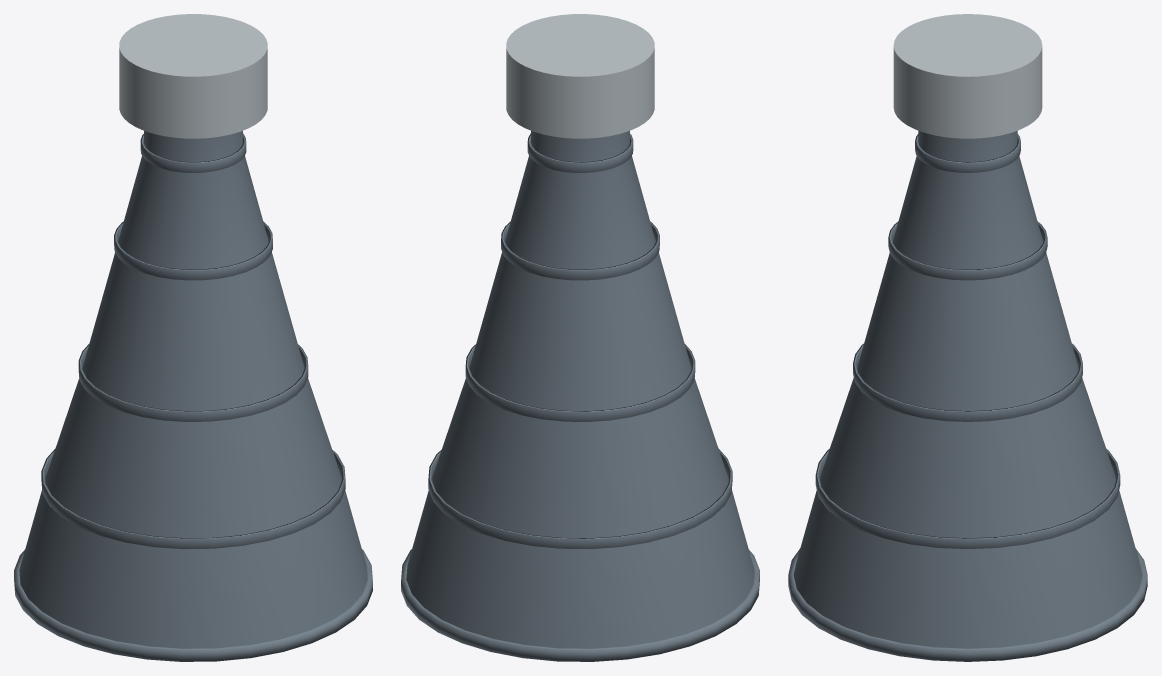
The model's file is sls_core.rs25_02.glb.
The picture shows the model from 3 angles, left to right: view 1: azimuth 30°, elevation 25°; view 2: azimuth 150°, elevation 25°; view 3: azimuth 270°, elevation 25°; orthographic projection.
Visible parts, largest first — view 1: sls_core.rs25_02.bell.mesh_Machined_steel, sls_core.rs25_02.mesh_Satin_aluminum; view 2: sls_core.rs25_02.bell.mesh_Machined_steel, sls_core.rs25_02.mesh_Satin_aluminum; view 3: sls_core.rs25_02.bell.mesh_Machined_steel, sls_core.rs25_02.mesh_Satin_aluminum.
Boxes of the visible parts, x1,y1,x2,y2 form: sls_core.rs25_02.bell.mesh_Machined_steel: [14, 131, 372, 661]; sls_core.rs25_02.mesh_Satin_aluminum: [119, 14, 267, 138]; sls_core.rs25_02.bell.mesh_Machined_steel: [401, 131, 759, 661]; sls_core.rs25_02.mesh_Satin_aluminum: [506, 14, 654, 138]; sls_core.rs25_02.bell.mesh_Machined_steel: [788, 130, 1147, 661]; sls_core.rs25_02.mesh_Satin_aluminum: [893, 14, 1042, 138].
Size of the model in its own units: 2.37 by 3.93 by 2.37.
